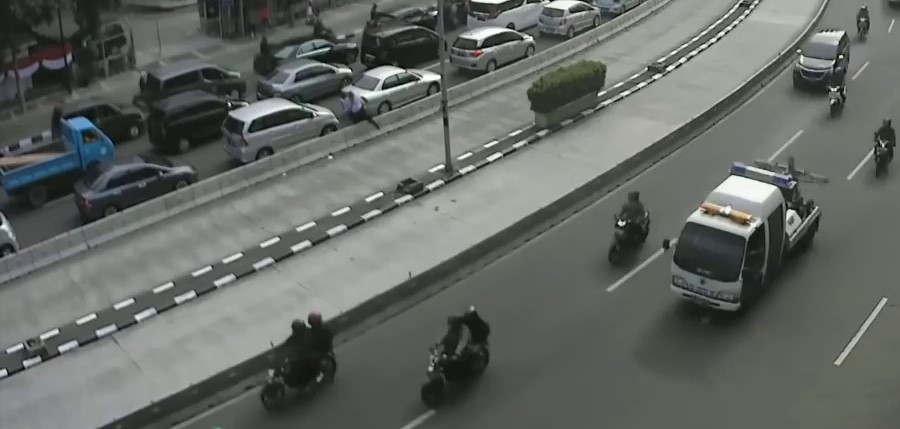car: (672, 162, 819, 313), (1, 116, 115, 198), (77, 155, 200, 221), (221, 98, 338, 165), (145, 89, 248, 154), (145, 57, 248, 116), (257, 56, 354, 111), (255, 34, 358, 84), (341, 65, 441, 115), (52, 98, 144, 152), (450, 27, 534, 75), (362, 23, 446, 70), (794, 30, 850, 93), (467, 1, 553, 36), (540, 1, 599, 40)
motorbike: (260, 312, 337, 408), (423, 309, 489, 405), (606, 190, 654, 266), (871, 118, 896, 184), (824, 66, 848, 117), (857, 5, 869, 39)
